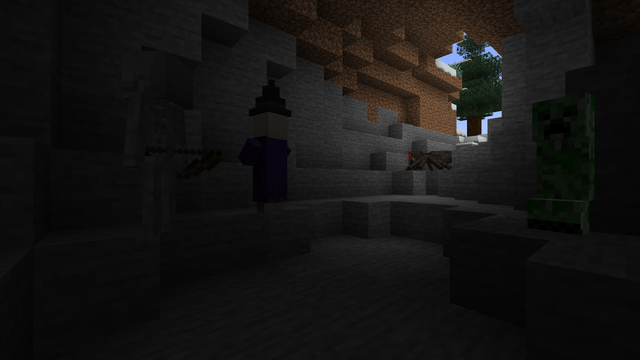araignees: (401, 147, 448, 171)
creepers: (529, 82, 600, 235)
sorcieres: (249, 106, 291, 214)
squelettes: (126, 43, 194, 241)
